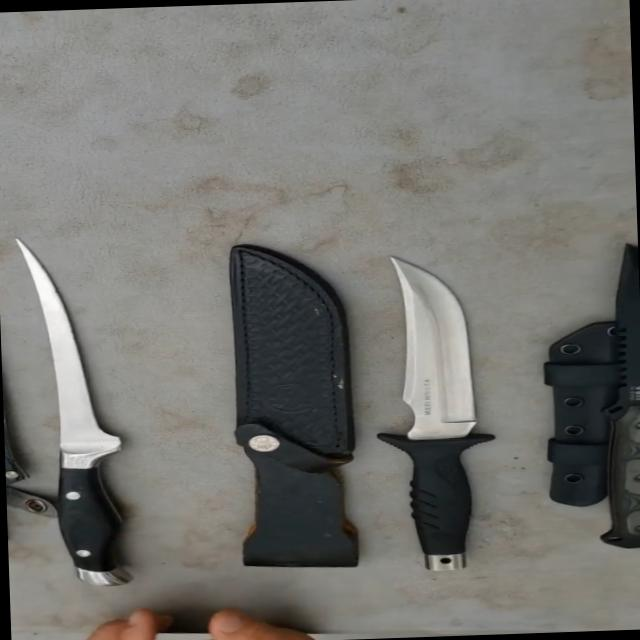knife: (0, 223, 153, 608), (346, 261, 518, 598), (568, 227, 639, 592)
